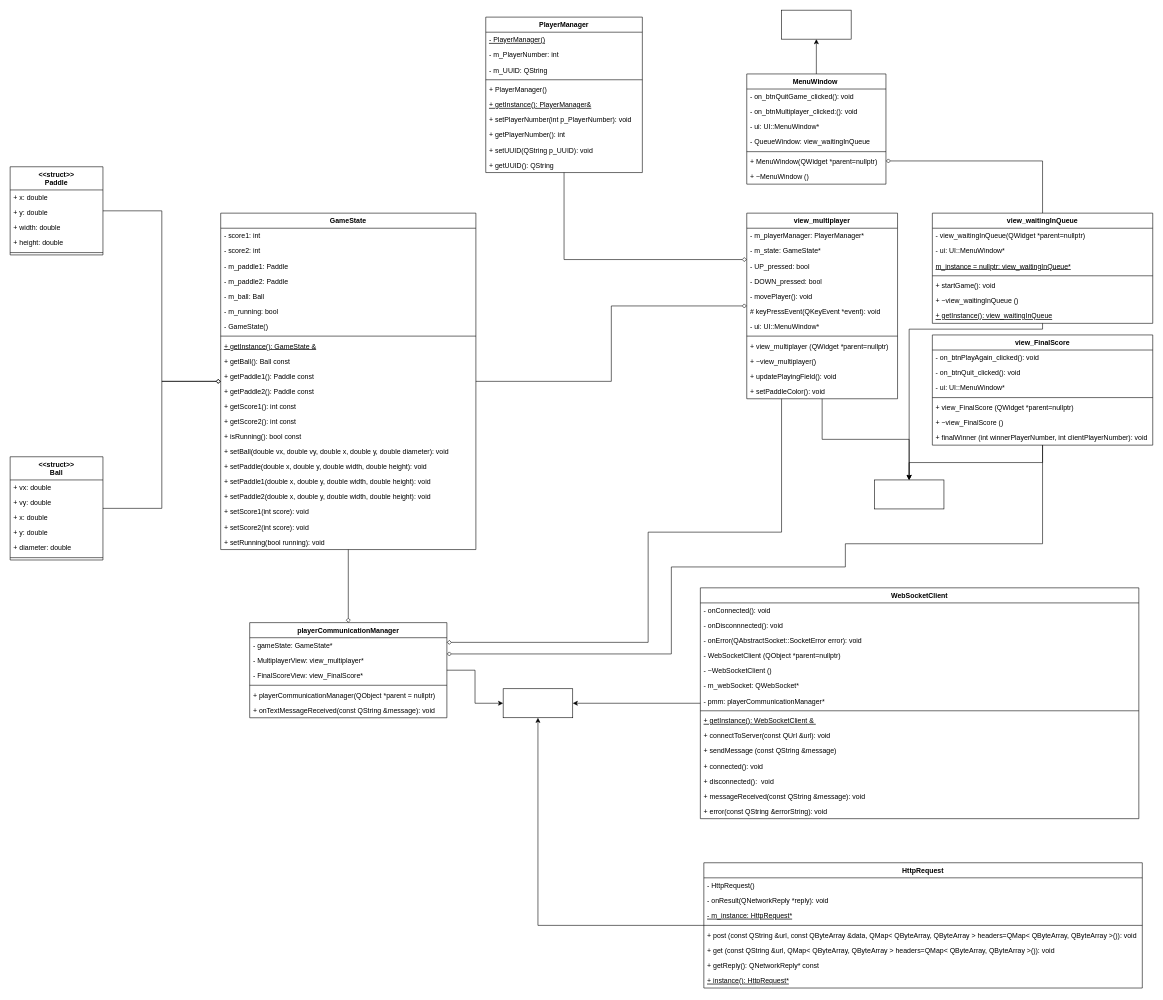
The diagram is 1163 pixels wide and 1000 high, and some of its shapes have lost their labels. The centre of each missing label's shape, as x and y in pixels:
QDialog: pixel 909 494
QMainWindow: pixel 816 24
QObject: pixel 538 703
